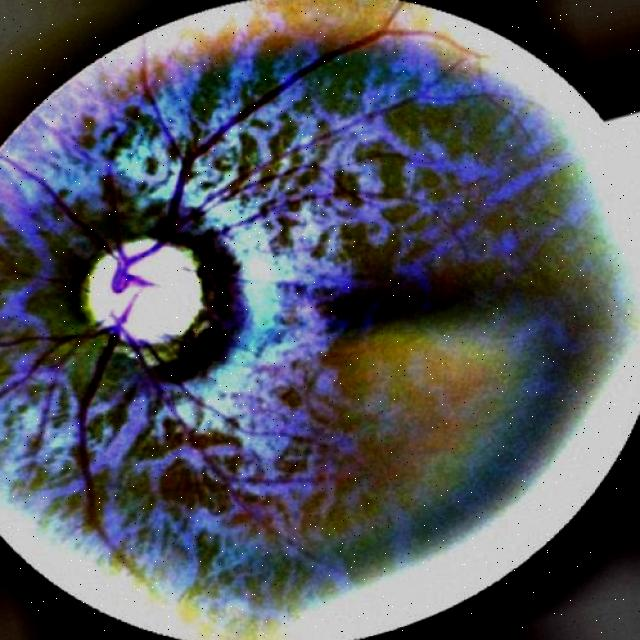Nerves: (0, 28, 383, 499)
Optic Disk: (82, 238, 202, 356)
